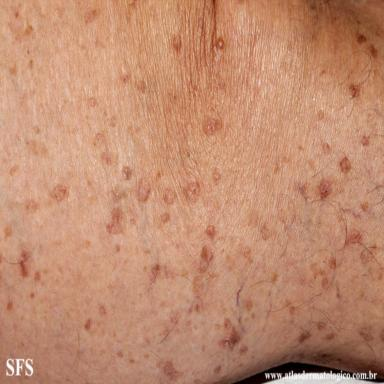Porokeratosis: (107, 188, 126, 235), (150, 261, 175, 280), (183, 180, 201, 205), (199, 245, 213, 273), (222, 326, 239, 348), (137, 178, 151, 204), (204, 115, 222, 135), (163, 361, 182, 379), (51, 183, 67, 203), (163, 187, 177, 206), (120, 62, 131, 85), (19, 250, 28, 278), (346, 229, 361, 244), (319, 181, 330, 197), (260, 224, 270, 240), (212, 168, 221, 185), (173, 34, 181, 53), (121, 165, 131, 180), (102, 151, 113, 164), (205, 225, 216, 238), (161, 211, 170, 224), (215, 37, 224, 49), (99, 305, 107, 316), (361, 136, 369, 146), (89, 97, 97, 107), (246, 300, 253, 311), (225, 318, 230, 328)
